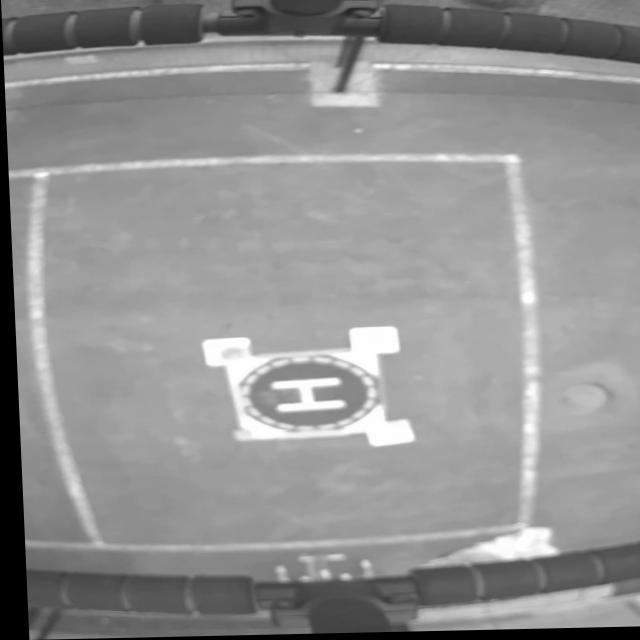Helipad: (264, 380, 340, 415)
